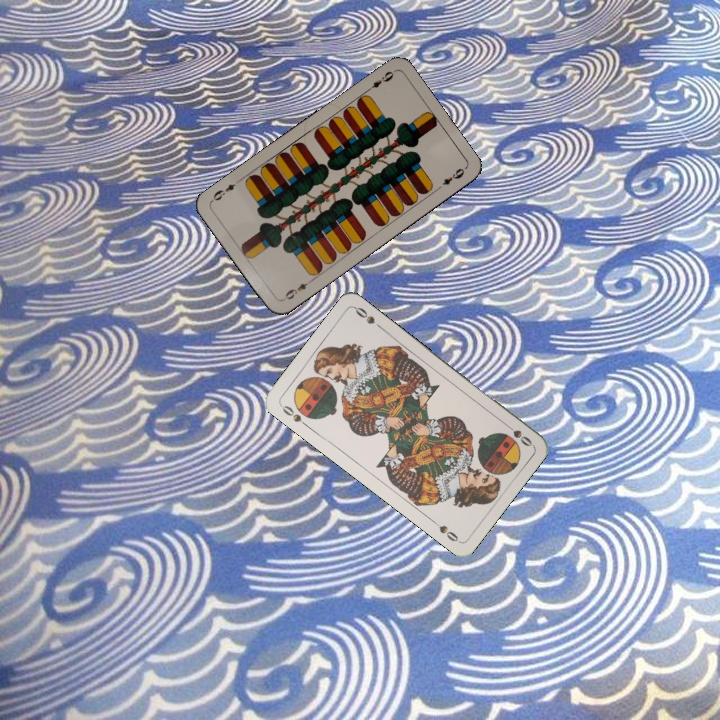E9: (361, 67, 396, 95), (279, 279, 310, 303)
SO: (500, 419, 535, 449), (276, 401, 311, 430)
